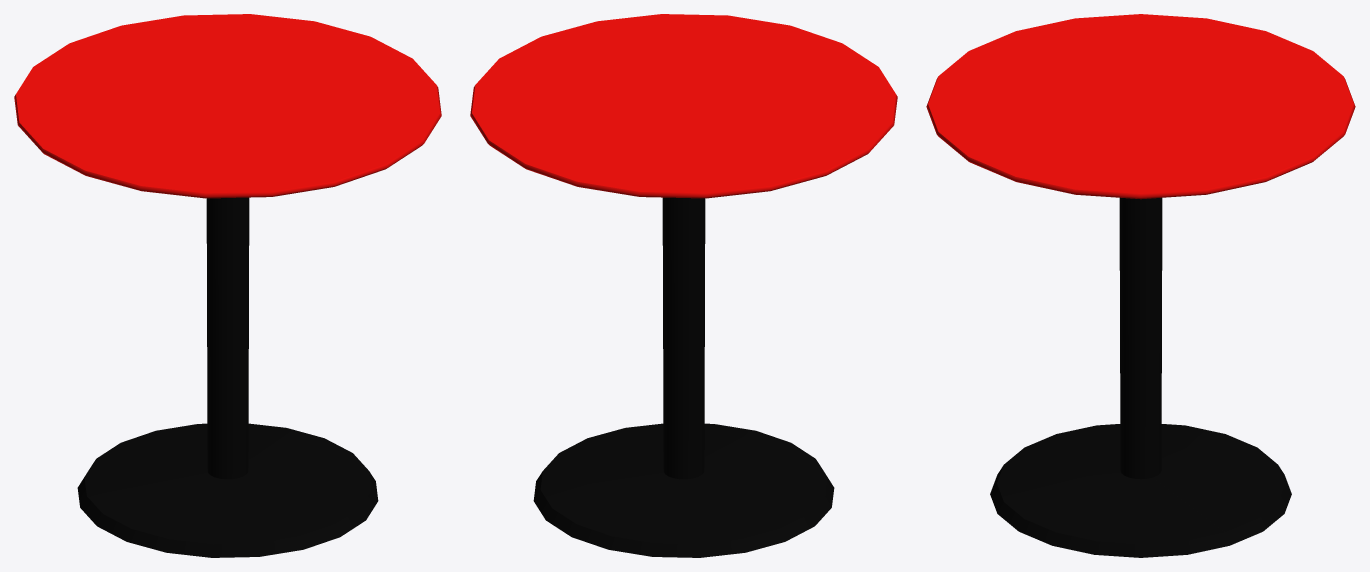
Rendered from Petite_Table_Rouge.FBX.
The picture shows the model from 3 angles, left to right: view 1: azimuth 30°, elevation 25°; view 2: azimuth 150°, elevation 25°; view 3: azimuth 270°, elevation 25°; orthographic projection.
Parts seen in each view (by area): view 1: Cylinder001; view 2: Cylinder001; view 3: Cylinder001.
Part boxes in pixels (x1=…): Cylinder001: x1=14, y1=14, x2=441, y2=557; Cylinder001: x1=470, y1=14, x2=897, y2=557; Cylinder001: x1=926, y1=14, x2=1355, y2=557.
Size of the model in its own units: 58.78 by 58.96 by 58.78.
